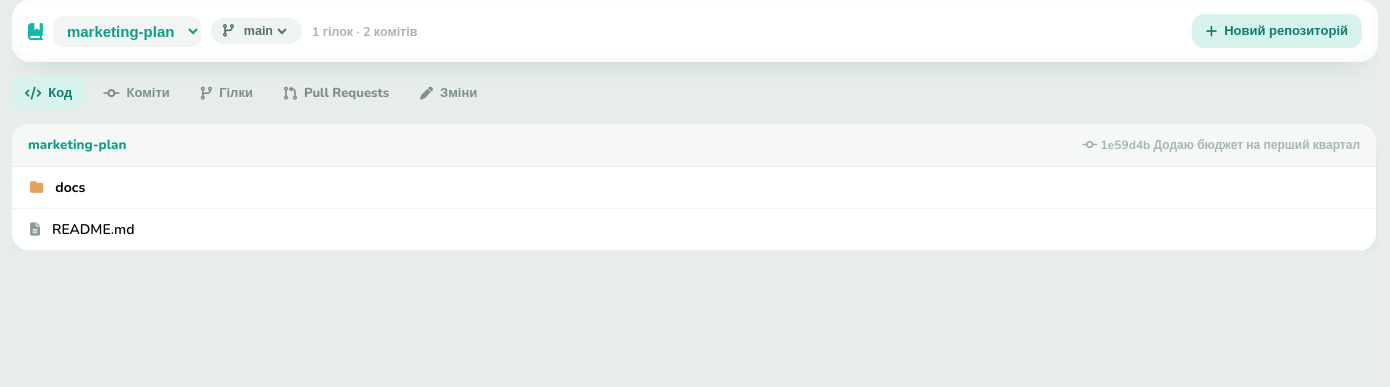
Test: GitHubClone (UI) — синхронізація з рушієм › показує коміти демо-репозиторію
The width and height of the screenshot is (1390, 387).
# перемикаємось на вкладку Коміти
Click the button "Коміти" at (136, 93), box [90,76,183,110]
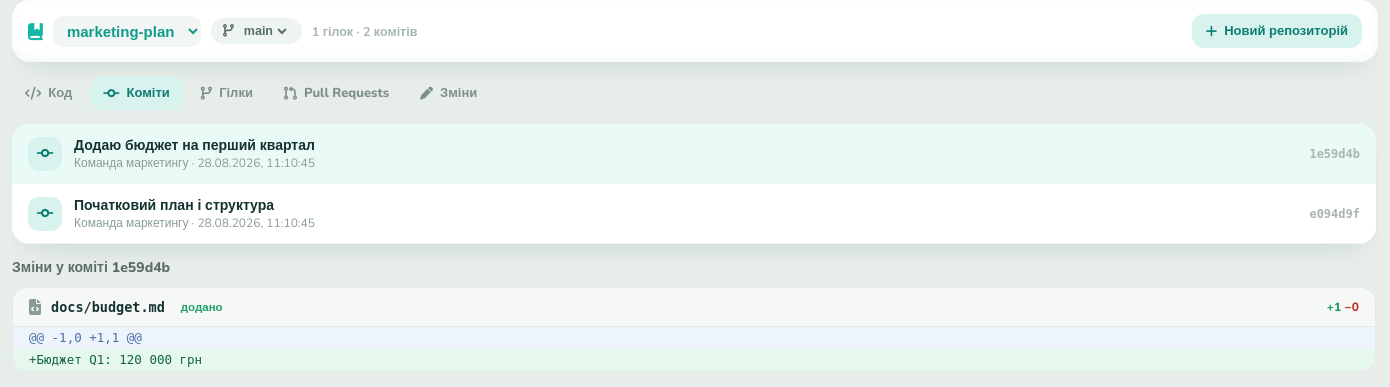
Expected: the text "Додаю бюджет на перший квартал" is shown, [74,136,315,155]
Expected: the text "Початковий план і структура" is shown, [74,196,274,215]
